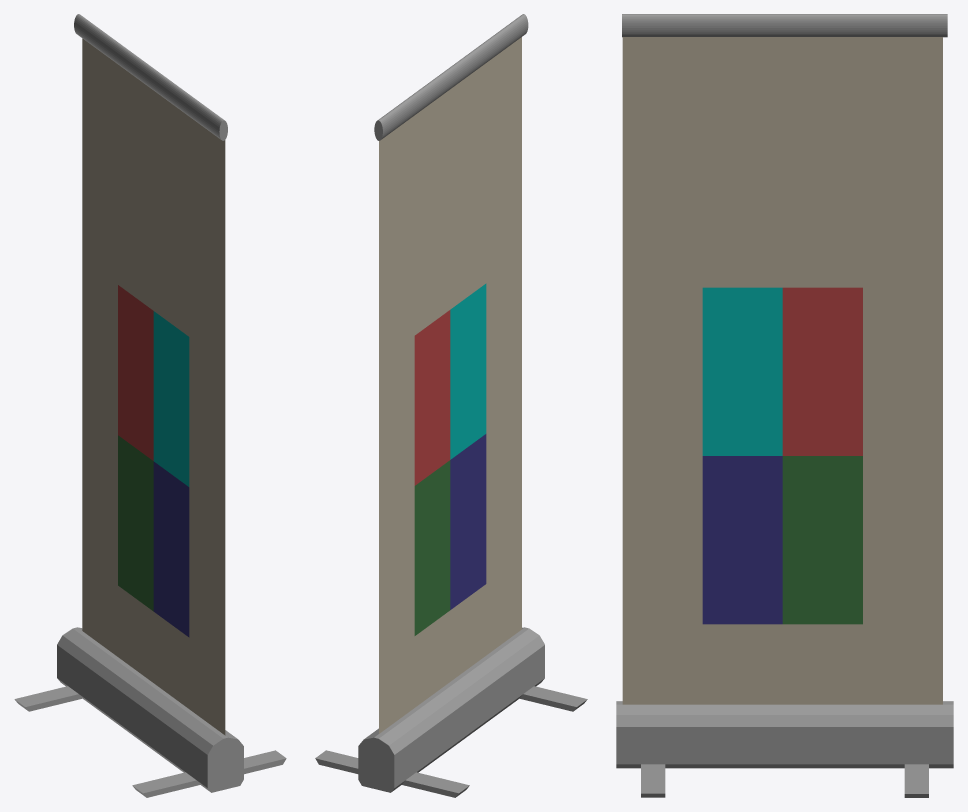
File: FLAMA.fbx
The picture shows the model from 3 angles, left to right: view 1: azimuth 30°, elevation 25°; view 2: azimuth 150°, elevation 25°; view 3: azimuth 270°, elevation 25°; orthographic projection. The views are drawn at different scales.
Visible parts, largest first — view 1: Cube.001; view 2: Cube.001; view 3: Cube.001.
Boxes of the visible parts, <box> form: Cube.001: <box>14,14,286,797</box>; Cube.001: <box>315,14,587,797</box>; Cube.001: <box>616,14,953,797</box>.
Bounding box in the file's own units: 662 × 2930 × 1200.
